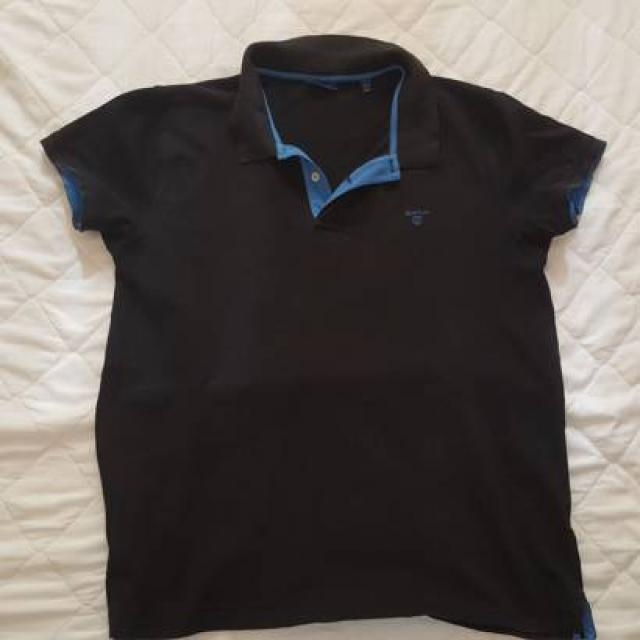Clothes -Biodegradable-: (45, 41, 608, 639)
